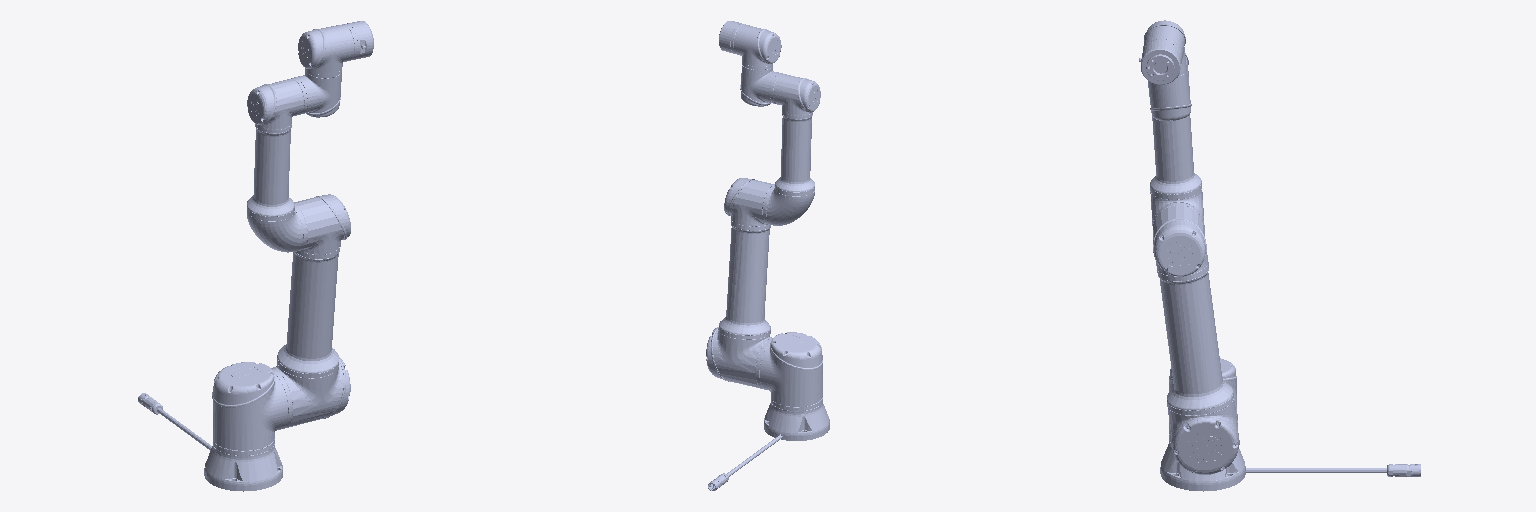
URDF robot description (ur5):
<?xml version="1.0" encoding="utf-8"?>
<!-- This URDF was automatically created by SolidWorks to URDF Exporter! Originally created by [author] ([email redacted]) 
     Commit Version: 1.6.0-1-g15f4949  Build Version: 1.6.7594.29634
     For more information, please see http://wiki.ros.org/sw_urdf_exporter -->
<robot
  name="ur5">
  <link
    name="base_link">
    <inertial>
      <origin
        xyz="7.5641E-05 0.056242 -0.022175"
        rpy="0 0 0" />
      <mass
        value="1.3189" />
      <inertia
        ixx="0.013561"
        ixy="2.3471E-06"
        ixz="-1.2819E-06"
        iyy="0.015106"
        iyz="-0.0014126"
        izz="0.003855" />
    </inertial>
    <visual>
      <origin
        xyz="0 0 0"
        rpy="0 0 0" />
      <geometry>
        <mesh
          filename="package://ur5/meshes/base_link.STL" />
      </geometry>
      <material
        name="">
        <color
          rgba="0.79216 0.81961 0.93333 1" />
      </material>
    </visual>
    <collision>
      <origin
        xyz="0 0 0"
        rpy="0 0 0" />
      <geometry>
        <mesh
          filename="package://ur5/meshes/base_link.STL" />
      </geometry>
    </collision>
  </link>
  <link
    name="link1">
    <inertial>
      <origin
        xyz="-7.1982E-07 0.082255 0.013093"
        rpy="0 0 0" />
      <mass
        value="3.4563" />
      <inertia
        ixx="0.014038"
        ixy="-1.2087E-08"
        ixz="2.1368E-07"
        iyy="0.011893"
        iyz="-0.00022739"
        izz="0.012444" />
    </inertial>
    <visual>
      <origin
        xyz="0 0 0"
        rpy="0 0 0" />
      <geometry>
        <mesh
          filename="package://ur5/meshes/link1.STL" />
      </geometry>
      <material
        name="">
        <color
          rgba="0.79216 0.81961 0.93333 1" />
      </material>
    </visual>
    <collision>
      <origin
        xyz="0 0 0"
        rpy="0 0 0" />
      <geometry>
        <mesh
          filename="package://ur5/meshes/link1.STL" />
      </geometry>
    </collision>
  </link>
  <joint
    name="joint1"
    type="continuous">
    <origin
      xyz="0 0 0.0993"
      rpy="1.5708 0 1.5945" />
    <parent
      link="base_link" />
    <child
      link="link1" />
    <axis
      xyz="0 1 0" />
    <limit
      lower="-3.14"
      upper="3.14"
      effort="100"
      velocity="1" />
  </joint>
  <link
    name="link2">
    <inertial>
      <origin
        xyz="1.1666E-06 0.18975 0.081551"
        rpy="0 0 0" />
      <mass
        value="8.0873" />
      <inertia
        ixx="0.28572"
        ixy="2.9419E-06"
        ixz="-1.3865E-06"
        iyy="0.020638"
        iyz="0.00057891"
        izz="0.28306" />
    </inertial>
    <visual>
      <origin
        xyz="0 0 0"
        rpy="0 0 0" />
      <geometry>
        <mesh
          filename="package://ur5/meshes/link2.STL" />
      </geometry>
      <material
        name="">
        <color
          rgba="0.79216 0.81961 0.93333 1" />
      </material>
    </visual>
    <collision>
      <origin
        xyz="0 0 0"
        rpy="0 0 0" />
      <geometry>
        <mesh
          filename="package://ur5/meshes/link2.STL" />
      </geometry>
    </collision>
  </link>
  <joint
    name="joint2"
    type="continuous">
    <origin
      xyz="0 0.0814 0.094696"
      rpy="0 0 0.1193" />
    <parent
      link="link1" />
    <child
      link="link2" />
    <axis
      xyz="0 0 1" />
    <limit
      lower="-3.14"
      upper="3.14"
      effort="100"
      velocity="1" />
  </joint>
  <link
    name="link3">
    <inertial>
      <origin
        xyz="-9.3658E-07 0.16476 -0.048558"
        rpy="0 0 0" />
      <mass
        value="3.423" />
      <inertia
        ixx="0.066944"
        ixy="-1.0292E-06"
        ixz="2.8595E-07"
        iyy="0.0051345"
        iyz="0.0036627"
        izz="0.066105" />
    </inertial>
    <visual>
      <origin
        xyz="0 0 0"
        rpy="0 0 0" />
      <geometry>
        <mesh
          filename="package://ur5/meshes/link3.STL" />
      </geometry>
      <material
        name="">
        <color
          rgba="0.79216 0.81961 0.93333 1" />
      </material>
    </visual>
    <collision>
      <origin
        xyz="0 0 0"
        rpy="0 0 0" />
      <geometry>
        <mesh
          filename="package://ur5/meshes/link3.STL" />
      </geometry>
    </collision>
  </link>
  <joint
    name="joint3"
    type="continuous">
    <origin
      xyz="0 0.4784 0"
      rpy="0 0 -0.058379" />
    <parent
      link="link2" />
    <child
      link="link3" />
    <axis
      xyz="0 0 1" />
    <limit
      lower="-3.14"
      upper="3.14"
      effort="100"
      velocity="1" />
  </joint>
  <link
    name="link4">
    <inertial>
      <origin
        xyz="1.5054E-06 0.0015505 0.063521"
        rpy="0 0 0" />
      <mass
        value="0.95329" />
      <inertia
        ixx="0.0018224"
        ixy="1.1502E-08"
        ixz="5.6024E-08"
        iyy="0.0015073"
        iyz="-4.6517E-05"
        izz="0.0013273" />
    </inertial>
    <visual>
      <origin
        xyz="0 0 0"
        rpy="0 0 0" />
      <geometry>
        <mesh
          filename="package://ur5/meshes/link4.STL" />
      </geometry>
      <material
        name="">
        <color
          rgba="0.79216 0.81961 0.93333 1" />
      </material>
    </visual>
    <collision>
      <origin
        xyz="0 0 0"
        rpy="0 0 0" />
      <geometry>
        <mesh
          filename="package://ur5/meshes/link4.STL" />
      </geometry>
    </collision>
  </link>
  <joint
    name="joint4"
    type="continuous">
    <origin
      xyz="0 0.36 0"
      rpy="0 0 0.043366" />
    <parent
      link="link3" />
    <child
      link="link4" />
    <axis
      xyz="0 0 1" />
    <limit
      lower="-3.14"
      upper="3.14"
      effort="100"
      velocity="1" />
  </joint>
  <link
    name="link5">
    <inertial>
      <origin
        xyz="-1.2846E-07 0.11025 0.0017377"
        rpy="0 0 0" />
      <mass
        value="0.85445" />
      <inertia
        ixx="0.0014391"
        ixy="3.8317E-09"
        ixz="7.3736E-09"
        iyy="0.0012261"
        iyz="-3.7098E-05"
        izz="0.0011248" />
    </inertial>
    <visual>
      <origin
        xyz="0 0 0"
        rpy="0 0 0" />
      <geometry>
        <mesh
          filename="package://ur5/meshes/link5.STL" />
      </geometry>
      <material
        name="">
        <color
          rgba="0.79216 0.81961 0.93333 1" />
      </material>
    </visual>
    <collision>
      <origin
        xyz="0 0 0"
        rpy="0 0 0" />
      <geometry>
        <mesh
          filename="package://ur5/meshes/link5.STL" />
      </geometry>
    </collision>
  </link>
  <joint
    name="joint5"
    type="continuous">
    <origin
      xyz="0 0 0.079454"
      rpy="0 -0.091586 0" />
    <parent
      link="link4" />
    <child
      link="link5" />
    <axis
      xyz="0 1 0" />
    <limit
      lower="-3.14"
      upper="3.14"
      effort="100"
      velocity="1" />
  </joint>
  <link
    name="link6">
    <inertial>
      <origin
        xyz="2.1651E-08 -7.8601E-05 0.034403"
        rpy="0 0 0" />
      <mass
        value="0.35054" />
      <inertia
        ixx="0.00026432"
        ixy="3.4659E-10"
        ixz="1.1025E-10"
        iyy="0.00026527"
        iyz="5.1606E-08"
        izz="0.00034748" />
    </inertial>
    <visual>
      <origin
        xyz="0 0 0"
        rpy="0 0 0" />
      <geometry>
        <mesh
          filename="package://ur5/meshes/link6.STL" />
      </geometry>
      <material
        name="">
        <color
          rgba="0.79216 0.81961 0.93333 1" />
      </material>
    </visual>
    <collision>
      <origin
        xyz="0 0 0"
        rpy="0 0 0" />
      <geometry>
        <mesh
          filename="package://ur5/meshes/link6.STL" />
      </geometry>
    </collision>
  </link>
  <joint
    name="joint6"
    type="continuous">
    <origin
      xyz="0 0.11985 0.05026"
      rpy="0 0 1.4247" />
    <parent
      link="link5" />
    <child
      link="link6" />
    <axis
      xyz="0 0 1" />
    <limit
      lower="-3.14"
      upper="3.14"
      effort="100"
      velocity="1" />
  </joint>
</robot>

--- Facts derived from the render (not from the file) ---
Views: 3 orthographic renders of the robot side by side, from view 1: azimuth 30°, elevation 25°; view 2: azimuth 150°, elevation 25°; view 3: azimuth 270°, elevation 25°.
Model ur5 with 7 links and 6 joints (6 continuous), rooted at base_link, posed every joint at zero.
Visible links, largest first — view 1: link2, link3, link1, base_link, link5, link4, link6; view 2: link2, link3, link1, base_link, link5, link4; view 3: link2, link3, base_link, link4, link6, link5.
Boxes of the visible links, box(x1,y1,x2,y2) form: link2: box(273, 194, 350, 427); link3: box(247, 79, 307, 252); link1: box(212, 362, 292, 450); base_link: box(138, 393, 282, 491); link5: box(298, 24, 353, 78); link4: box(291, 70, 341, 117); link6: box(344, 21, 373, 59); link2: box(706, 178, 774, 388); link3: box(762, 74, 820, 225); link1: box(755, 332, 822, 406); base_link: box(708, 398, 829, 490); link5: box(734, 24, 781, 69); link4: box(740, 65, 782, 106); link2: box(1153, 205, 1239, 474); link3: box(1150, 53, 1203, 225); base_link: box(1160, 433, 1420, 491); link4: box(1148, 71, 1191, 120); link6: box(1139, 39, 1181, 84); link5: box(1143, 20, 1186, 77).
Size in the robot's own frame: 0.3896 by 0.6299 by 1.19 metres.
7 mesh visuals loaded from 7 distinct referenced files (7 binary STL).